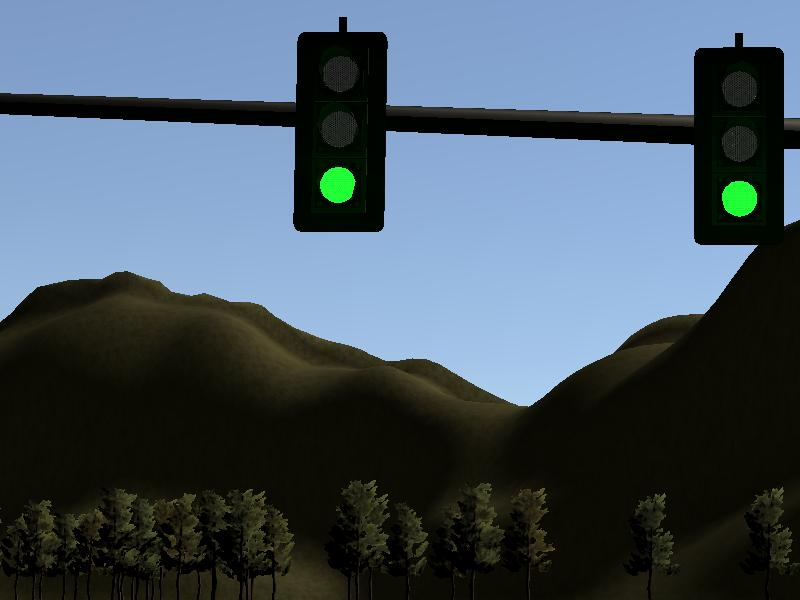not_red: (692, 47, 784, 243), (298, 32, 385, 231)
